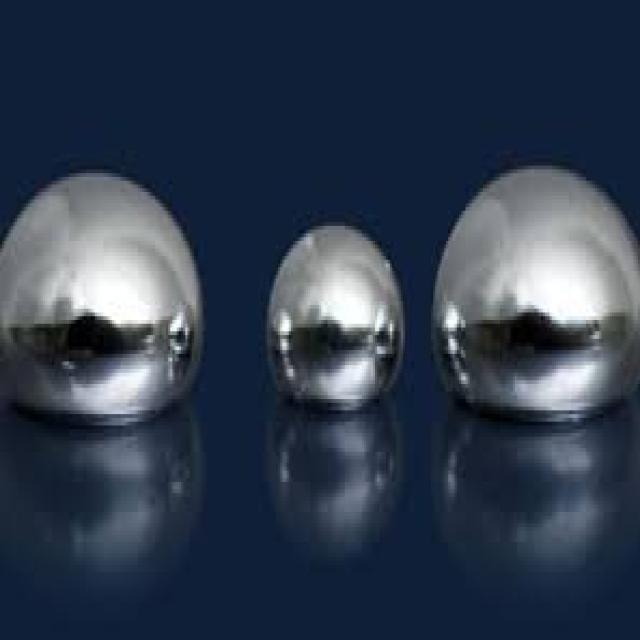Dry Waste: (6, 133, 212, 445), (432, 104, 617, 441), (265, 177, 402, 463)
